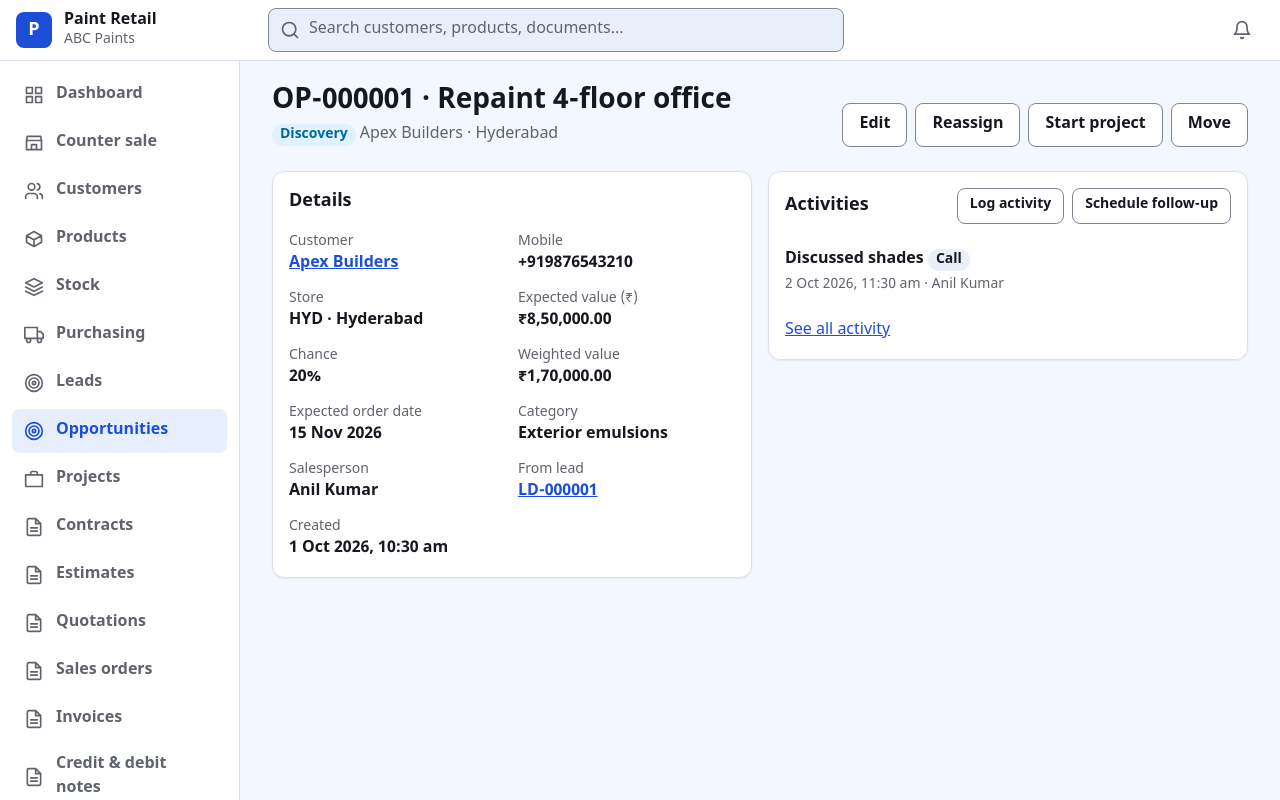
Test case: OpportunityDetailPage › moves between stages, and wins
Step 1. Click the button with aria-label "Move OP-000001" → x=1209, y=125, box [1171, 103, 1248, 147]
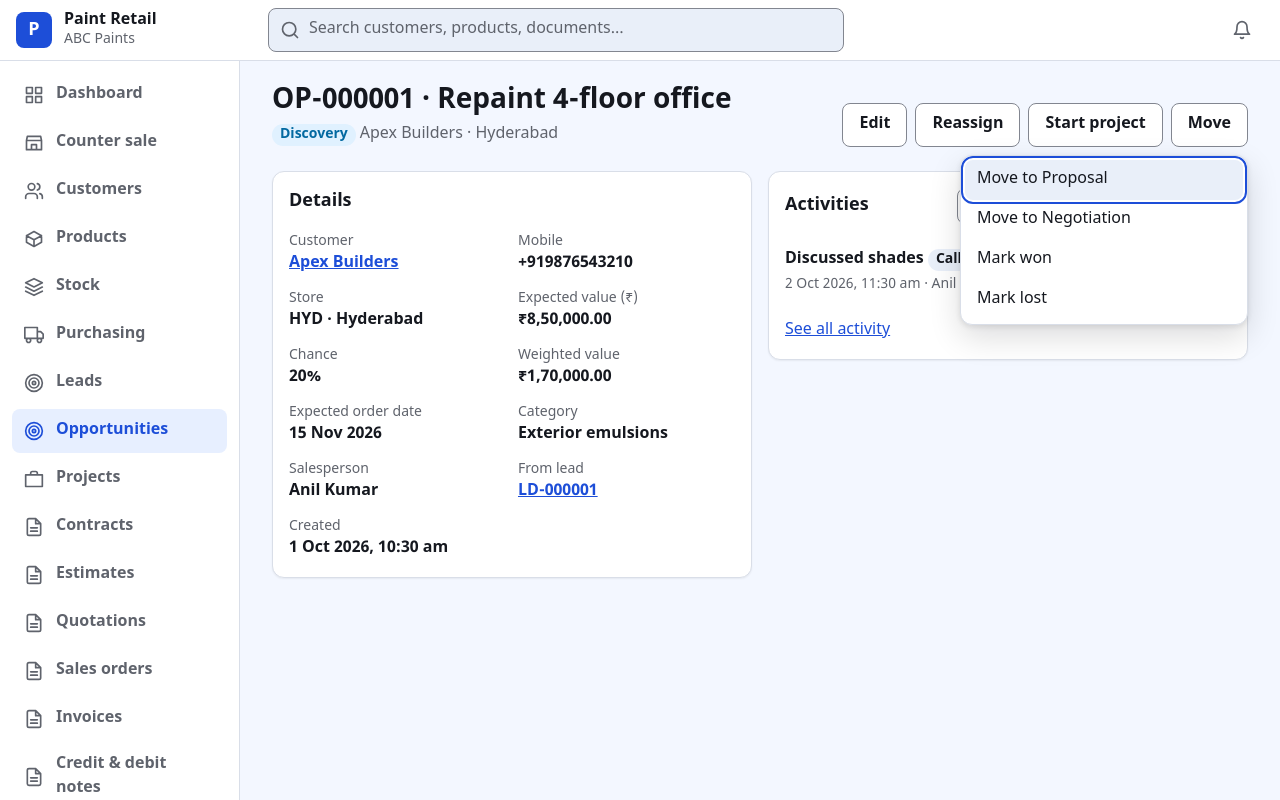
Expected: the buttons read "Move to Proposal", "Move to Negotiation", "Mark won", "Mark lost", in this order
Step 2. Click the button "Move to Proposal" → x=1104, y=180, box [965, 160, 1243, 200]
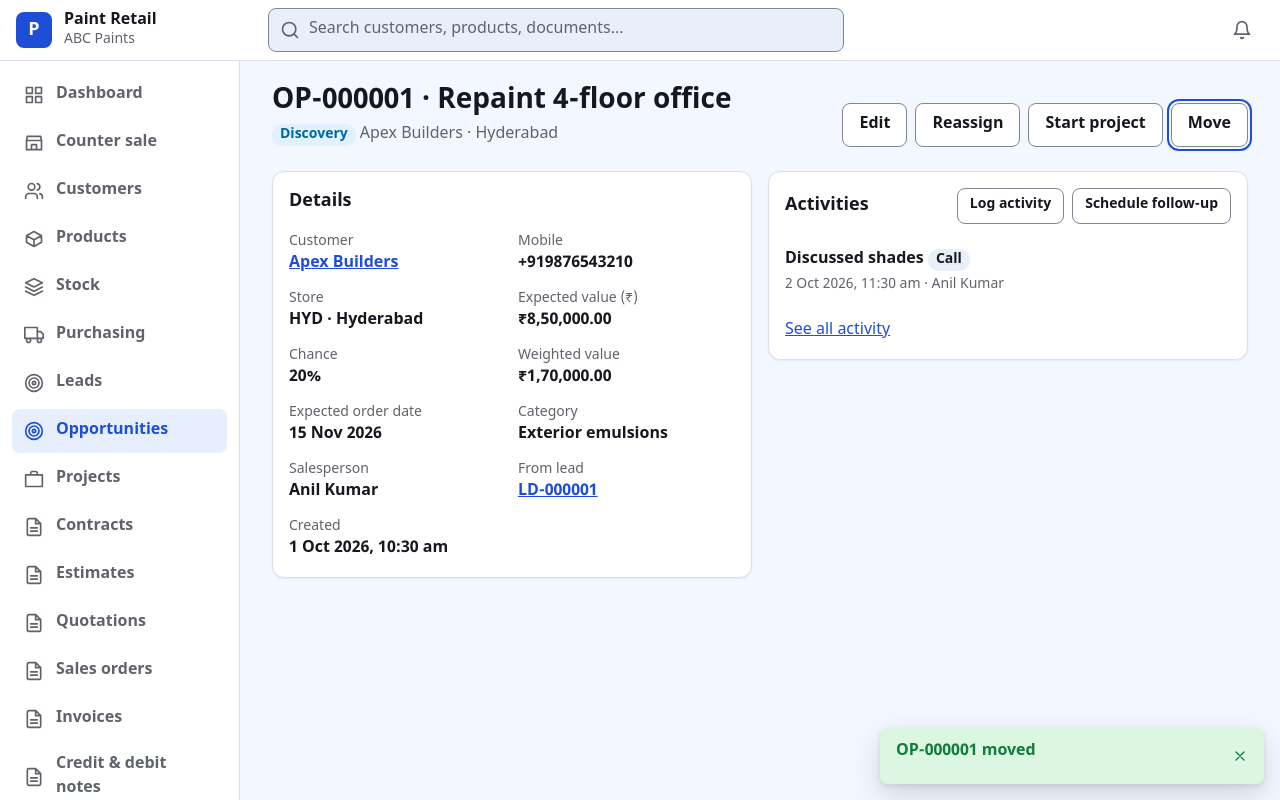
Expected: the text "OP-000001 moved" is shown, [896, 741, 1036, 762]
Step 3. Click the button with aria-label "Move OP-000001" → x=1209, y=125, box [1171, 103, 1248, 147]
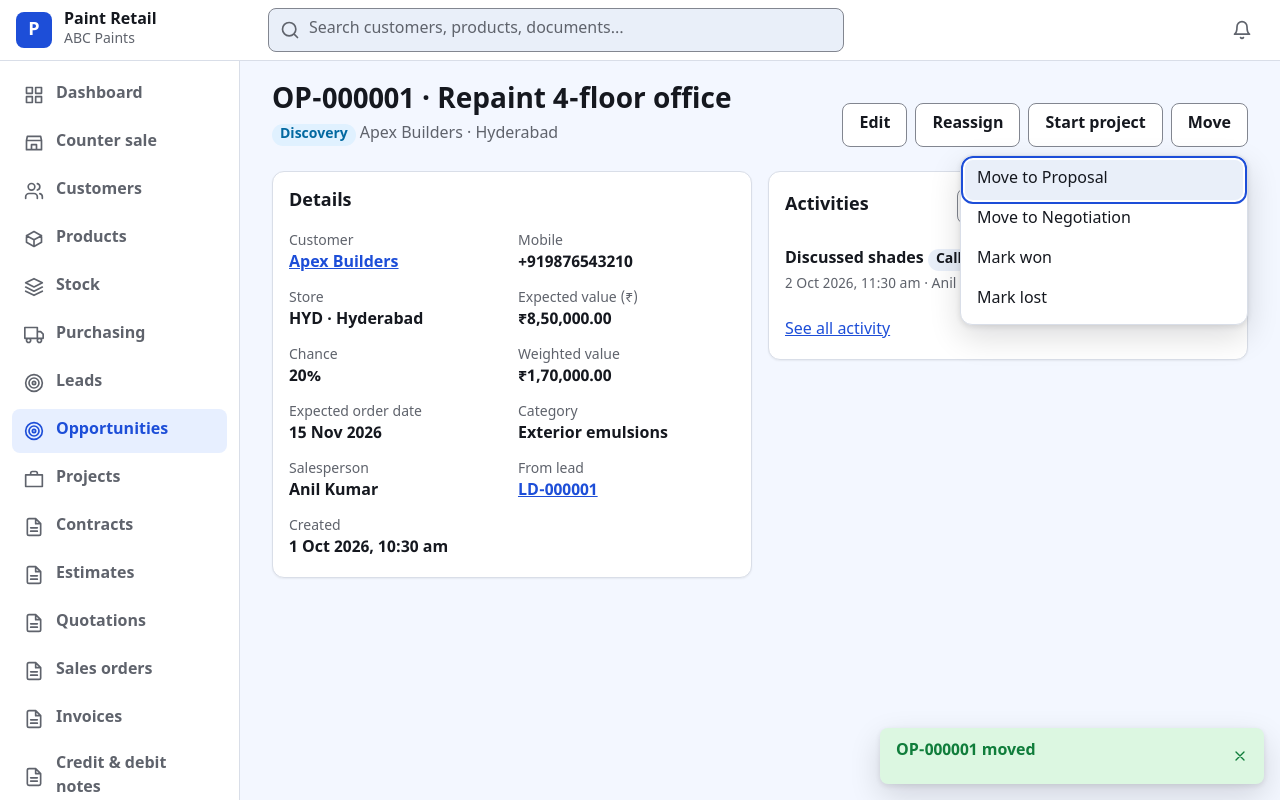
Step 4. Click the button "Mark won" → x=1014, y=260, box [965, 240, 1243, 280]
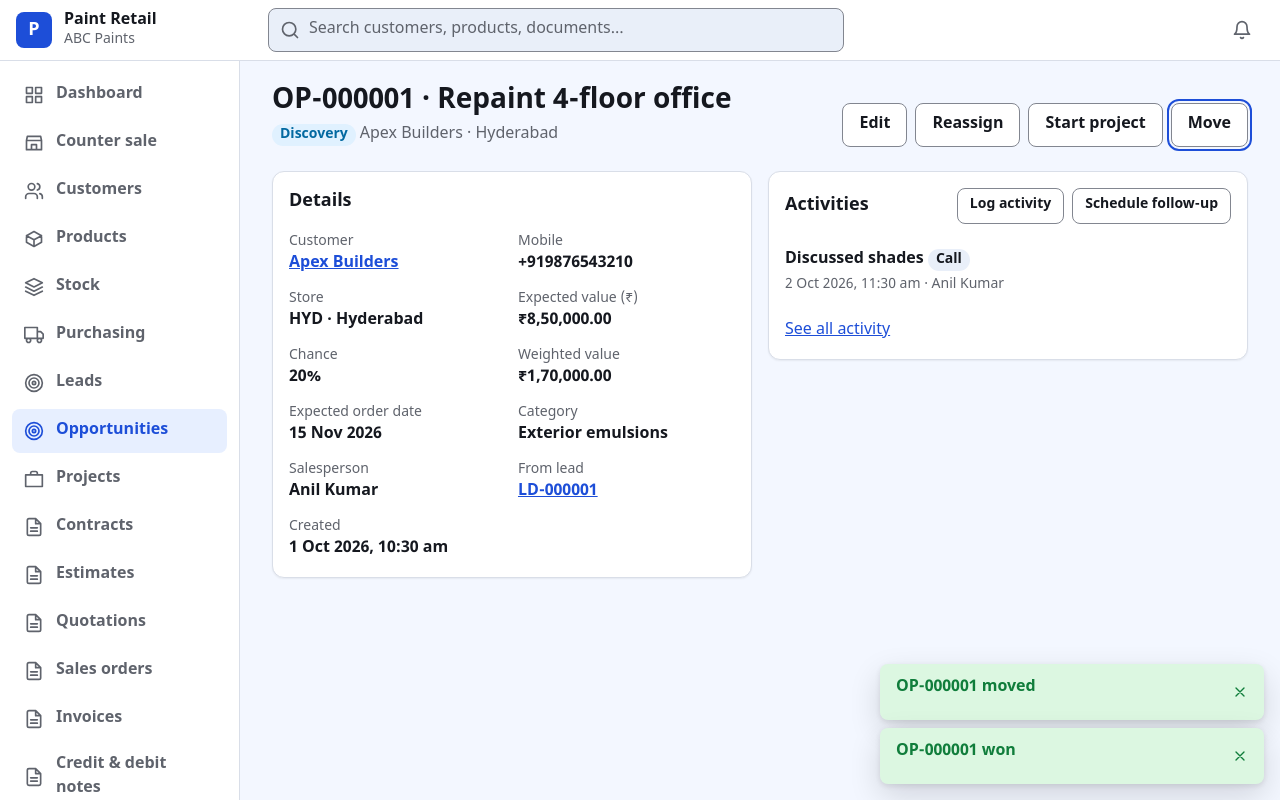
Expected: the text "OP-000001 won" is shown, [896, 741, 1016, 762]
